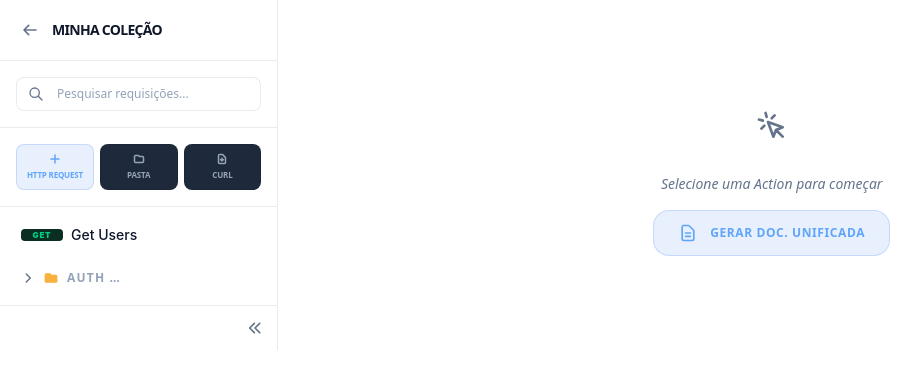
Test: CollectionView › should render search input and filter items
The width and height of the screenshot is (907, 367).
Type "Login" into the field with placeholder "Pesquisar requisições...".
click(139, 94); type("Login")  # box left=16, top=77, right=261, bottom=111
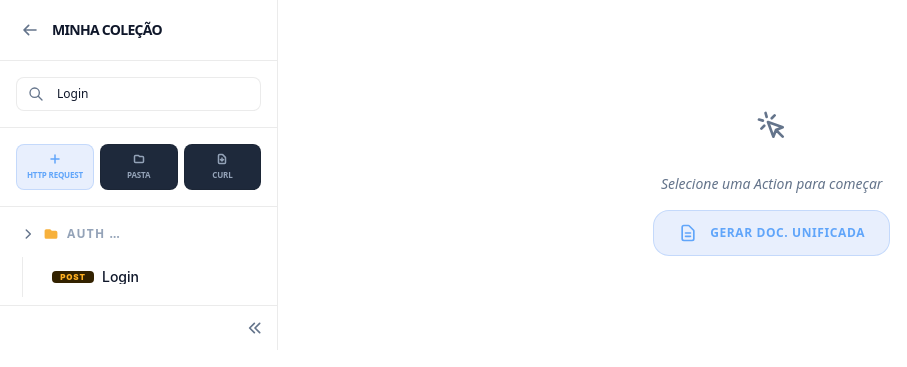
Now the text "Login" is shown, box left=102, top=268, right=139, bottom=285
Now the text "Get Users" is gone
